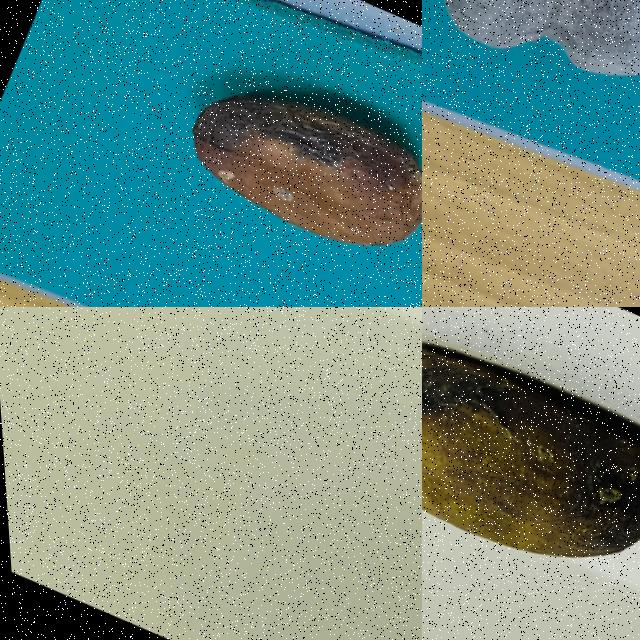Agglomerated_cocoabeans: (422, 0, 639, 195)
Fine_cocoabeans: (67, 0, 421, 306), (422, 307, 639, 639)
